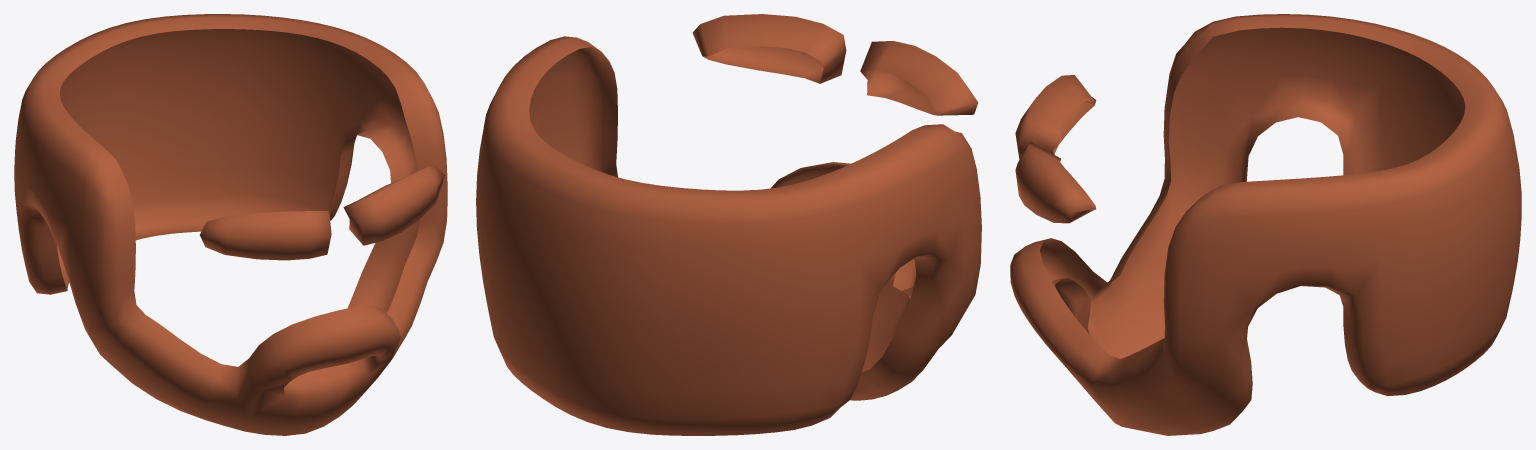
3 views of the same model, side by side, from view 1: azimuth 30°, elevation 25°; view 2: azimuth 150°, elevation 25°; view 3: azimuth 270°, elevation 25° (orthographic). The views are drawn at different scales.
Parts seen in each view (by area): view 1: 21男发3; view 2: 21男发3; view 3: 21男发3.
Boxes of the visible parts, x1,y1,x2,y2 form: 21男发3: [14, 14, 447, 435]; 21男发3: [476, 14, 981, 435]; 21男发3: [1010, 14, 1521, 435].
Bounding box in the file's own units: 0.4004 × 0.3035 × 0.4453.
